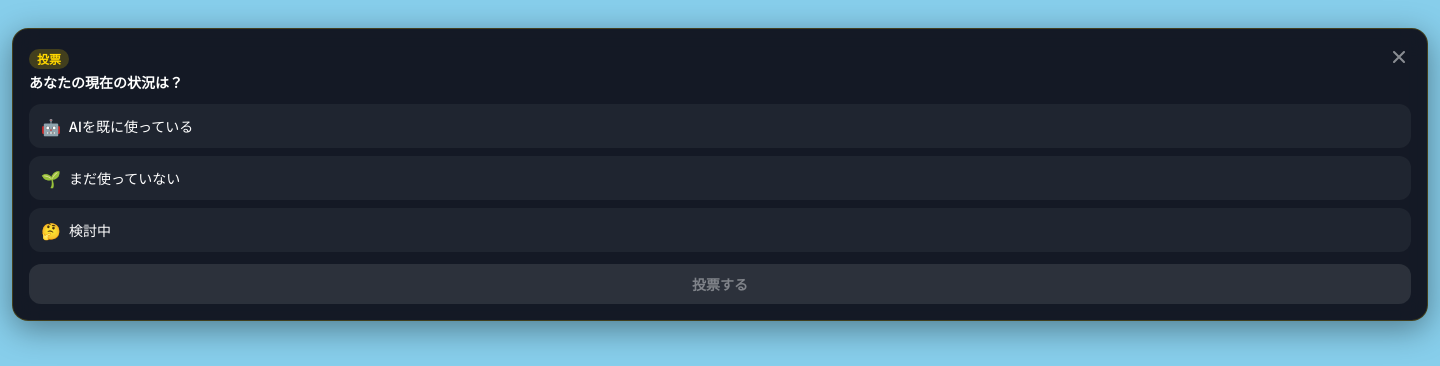
Test case: PollOverlay - selection › selecting an option enables vote button
Click the text "AIを既に使っている". click: (131, 126)
box: [69,116,193,136]
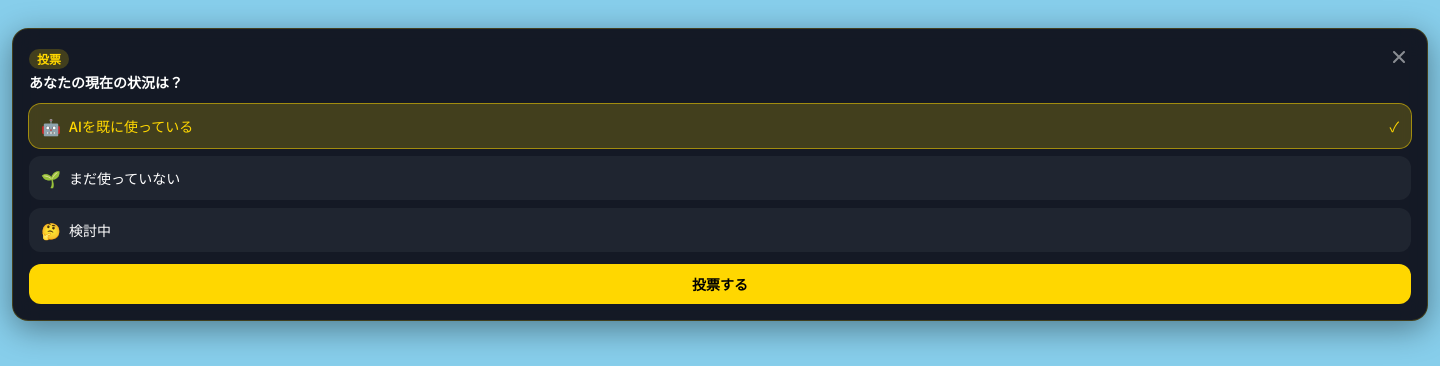
Expected: the button "投票する" is enabled, [29,264,1411,304]
